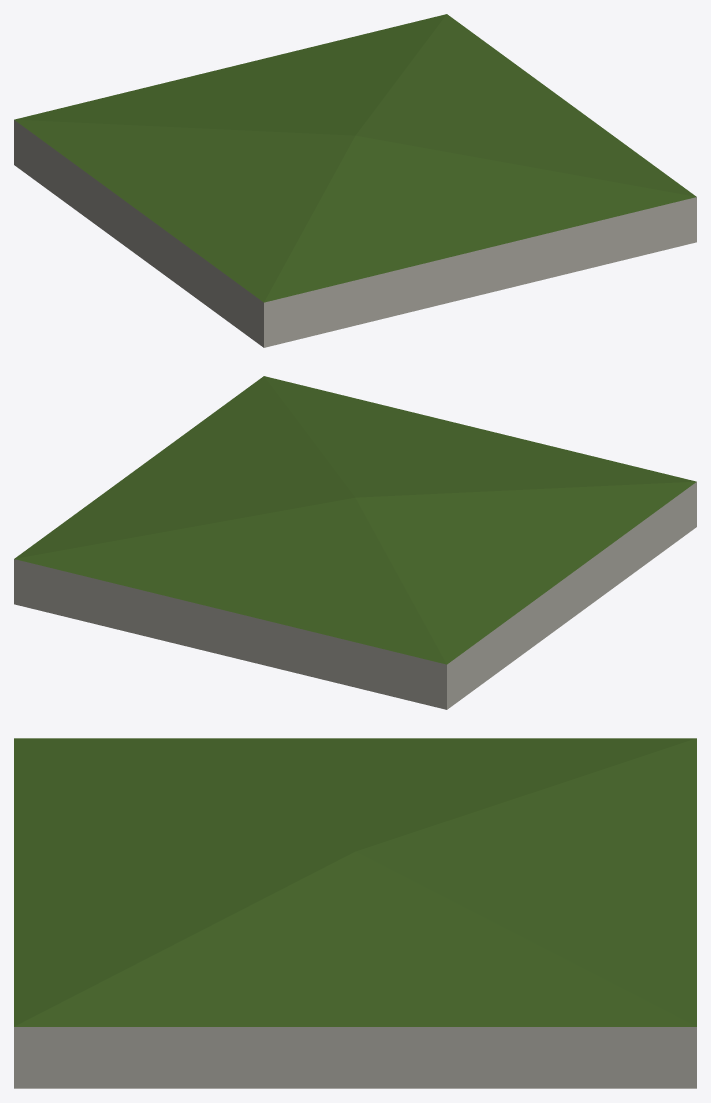
File: Terrain_Modular_Tiles_Grass_Rock_Lump_01.fbx
3 views of the same model, one above another, from view 1: azimuth 30°, elevation 25°; view 2: azimuth 150°, elevation 25°; view 3: azimuth 270°, elevation 25° (orthographic). The views are drawn at different scales.
Visible parts, largest first — view 1: Terrain_Modular_Tiles_Grass_Rock_Lump_01; view 2: Terrain_Modular_Tiles_Grass_Rock_Lump_01; view 3: Terrain_Modular_Tiles_Grass_Rock_Lump_01.
Part boxes in pixels (x1,y1,x2,y2): Terrain_Modular_Tiles_Grass_Rock_Lump_01: [14, 14, 696, 347]; Terrain_Modular_Tiles_Grass_Rock_Lump_01: [14, 376, 696, 709]; Terrain_Modular_Tiles_Grass_Rock_Lump_01: [14, 738, 696, 1088].
Size of the model in its own units: 118 by 17.72 by 118.
